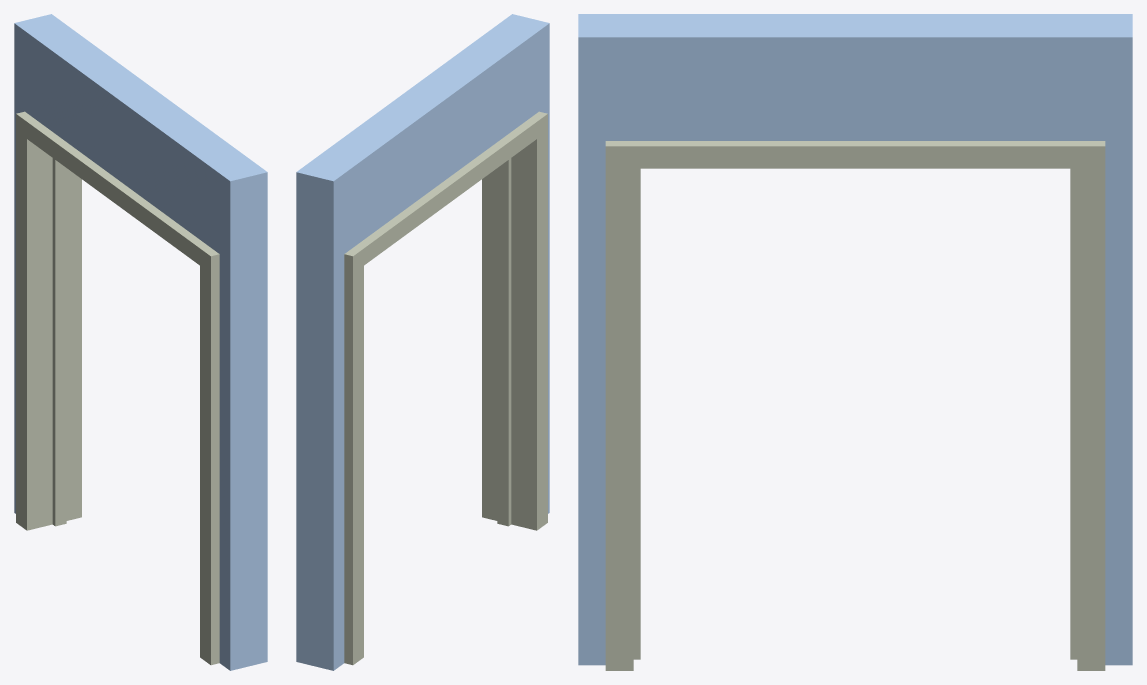
File: SM_WallDoor_1x2_02a.glb
The picture shows the model from 3 angles, left to right: view 1: azimuth 30°, elevation 25°; view 2: azimuth 150°, elevation 25°; view 3: azimuth 270°, elevation 25°; orthographic projection. The views are drawn at different scales.
Parts seen in each view (by area): view 1: SM_WallDoor_1x2_02a; view 2: SM_WallDoor_1x2_02a; view 3: SM_WallDoor_1x2_02a.
Part boxes in pixels (left/top/right/bottom): SM_WallDoor_1x2_02a: left=14, top=14, right=267, bottom=670; SM_WallDoor_1x2_02a: left=296, top=14, right=549, bottom=670; SM_WallDoor_1x2_02a: left=578, top=14, right=1132, bottom=670.
Size of what is drawn, in the model's own units: 0.2943 by 2.5 by 2.
